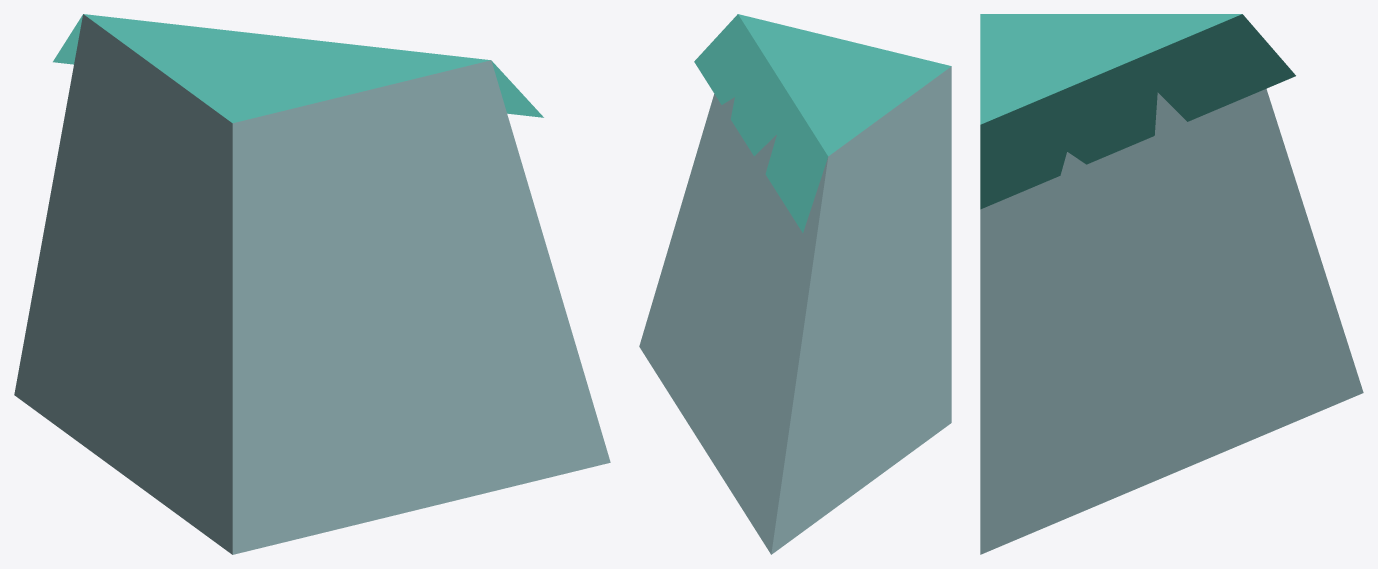
Rendered from cliffGrey_halfCorner.obj.
3 renders of one model, left to right at view 1: azimuth 30°, elevation 25°; view 2: azimuth 150°, elevation 25°; view 3: azimuth 270°, elevation 25°, orthographic. The views are drawn at different scales.
Visible parts, largest first — view 1: cliffGrey_halfCorner; view 2: cliffGrey_halfCorner; view 3: cliffGrey_halfCorner.
Part boxes in pixels (left/top/right/bottom): cliffGrey_halfCorner: left=14, top=14, right=610, bottom=554; cliffGrey_halfCorner: left=639, top=14, right=951, bottom=554; cliffGrey_halfCorner: left=980, top=14, right=1363, bottom=554.
Bounding box in the file's own units: 4.58 × 5 × 4.58.
